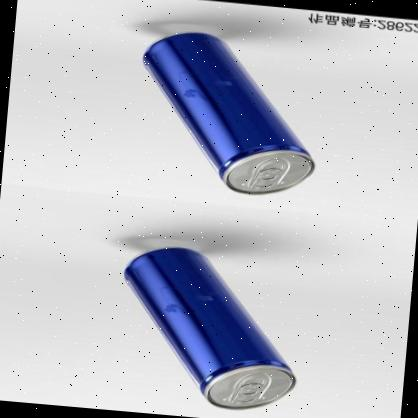can: (120, 19, 332, 203), (105, 238, 310, 415)
